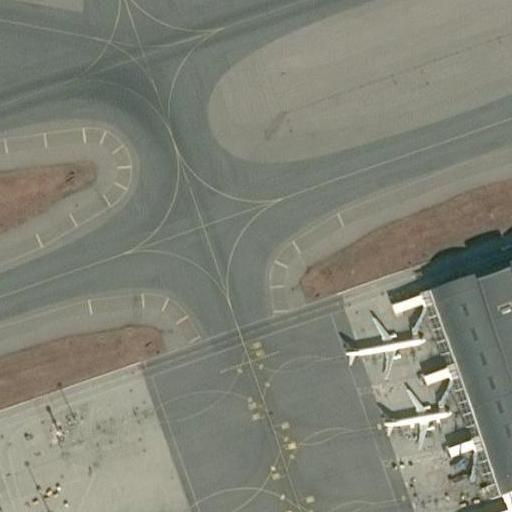Aircraft: (337, 302, 432, 378), (377, 385, 457, 446)
